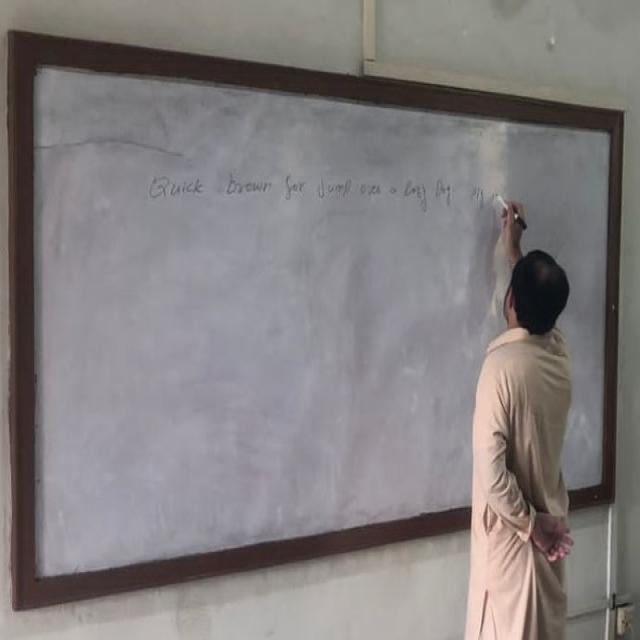Instructor: (456, 215, 572, 618)
White-board: (11, 43, 618, 597)
